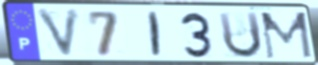3: (179, 11, 214, 60)
7: (86, 9, 125, 59)
I: (148, 10, 162, 59)
M: (258, 10, 315, 61)
U: (216, 10, 265, 60)
V: (33, 7, 83, 61)
